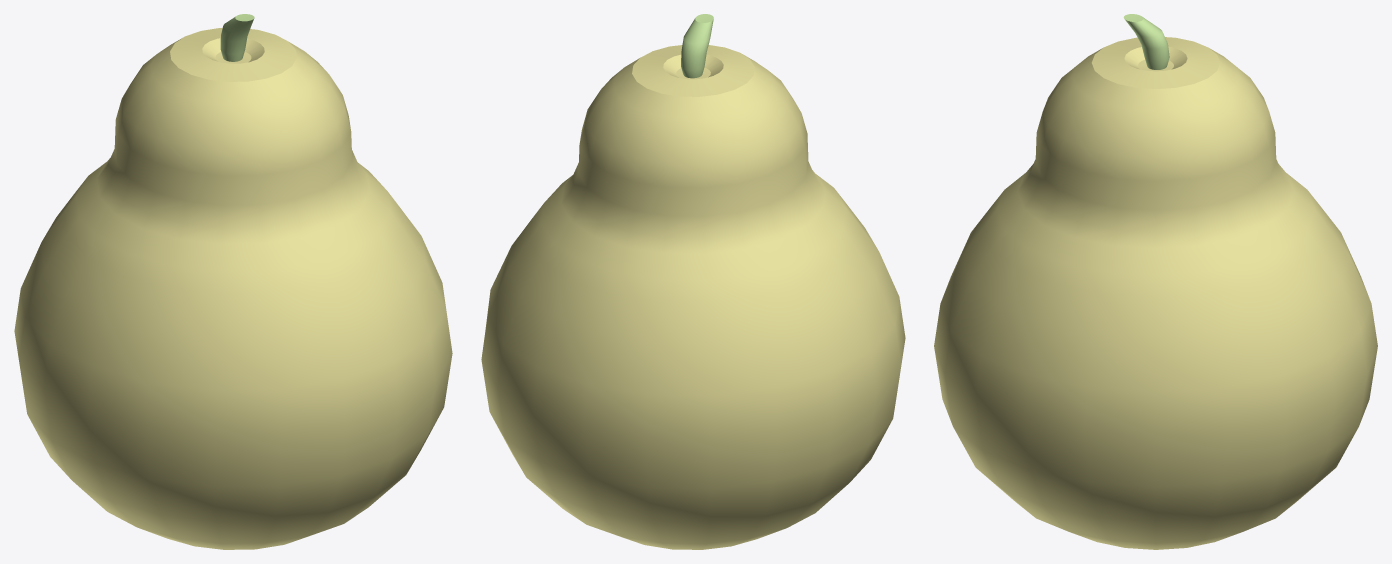
File: pear .fbx
The picture shows the model from 3 angles, left to right: view 1: azimuth 30°, elevation 25°; view 2: azimuth 150°, elevation 25°; view 3: azimuth 270°, elevation 25°; orthographic projection. The views are drawn at different scales.
Visible parts, largest first — view 1: pCylinder2; view 2: pCylinder2; view 3: pCylinder2.
Part boxes in pixels (<box>): pCylinder2: <box>14,14,452,549</box>; pCylinder2: <box>481,14,905,549</box>; pCylinder2: <box>934,14,1377,549</box>.
Bounding box in the file's own units: 5.65 × 7.31 × 5.84.
